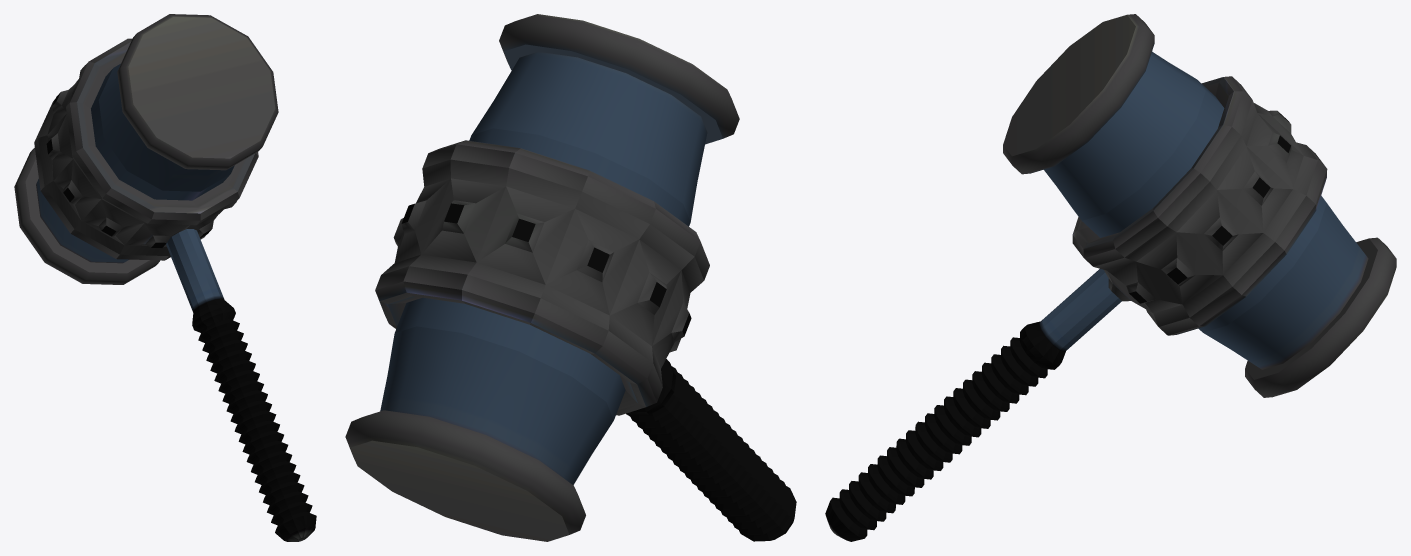
Rendered from Ban_hammerfbx.fbx.
3 views of the same model, side by side, from view 1: azimuth 30°, elevation 25°; view 2: azimuth 150°, elevation 25°; view 3: azimuth 270°, elevation 25° (orthographic). The views are drawn at different scales.
Visible parts, largest first — view 1: Ban_Hammer; view 2: Ban_Hammer; view 3: Ban_Hammer.
Boxes of the visible parts, x1,y1,x2,y2 form: Ban_Hammer: (14,14,316,541); Ban_Hammer: (345,14,796,541); Ban_Hammer: (825,14,1396,541).
Size of the model in its own units: 185 by 437 by 441.
Materials: 1 (1 with a texture image).
